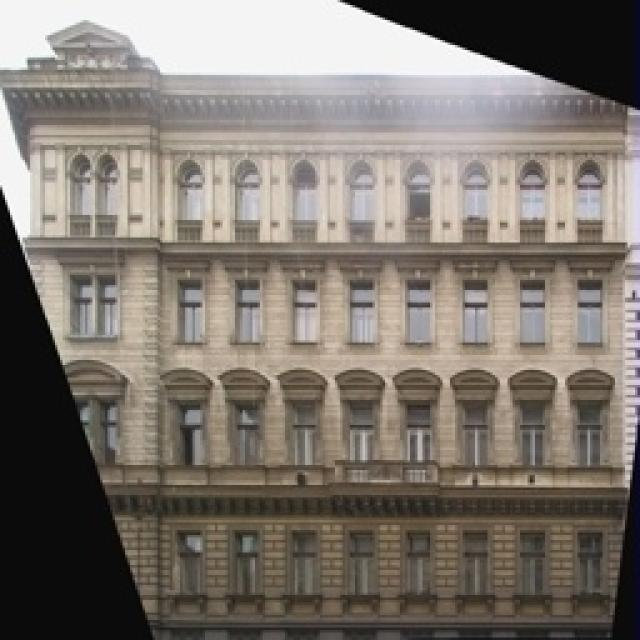building: (12, 35, 640, 640)
